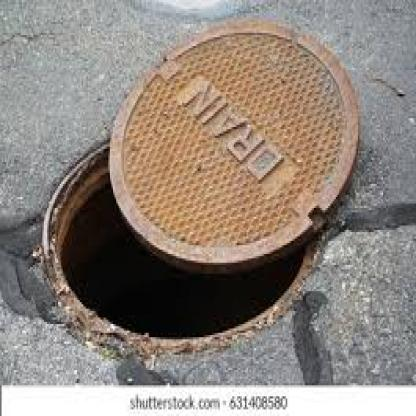manholes: (33, 15, 367, 370)
